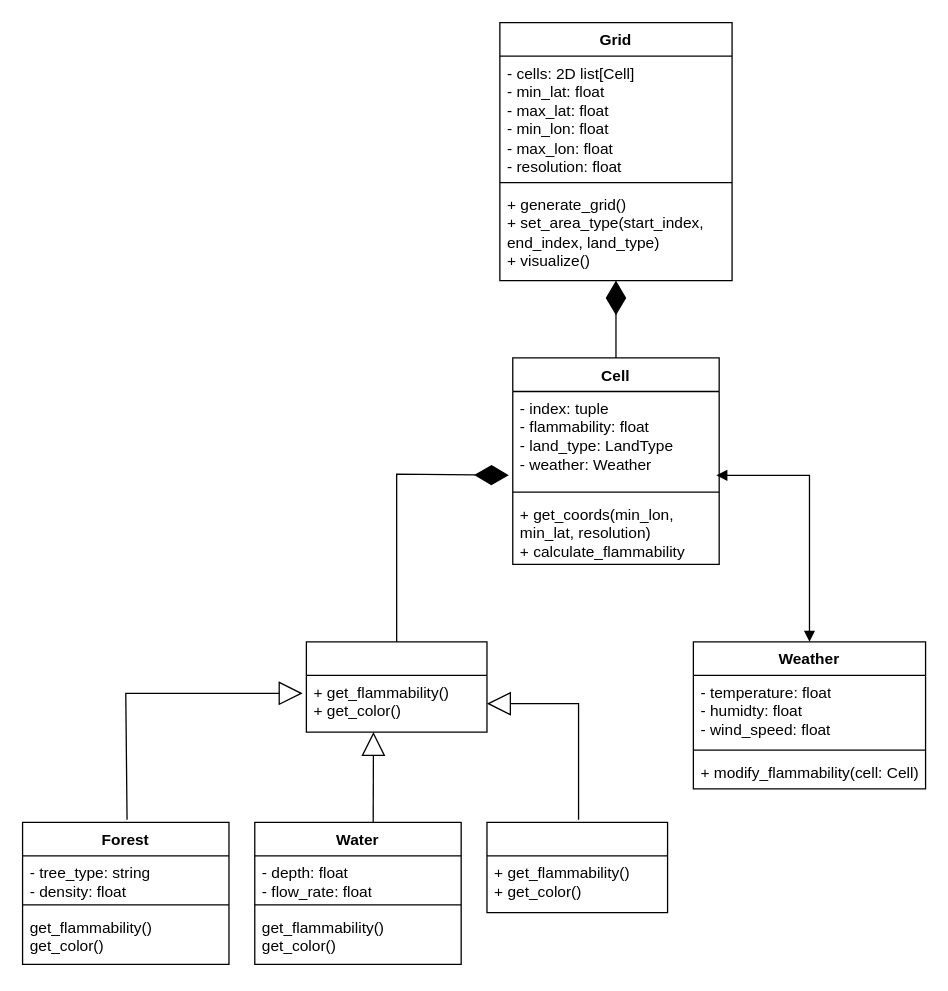
This 948x991 diagram has some shape labels left out. Each missing label, with the box of its shape:
LandType: (305, 640, 487, 732)
Unknown: (486, 821, 668, 913)
